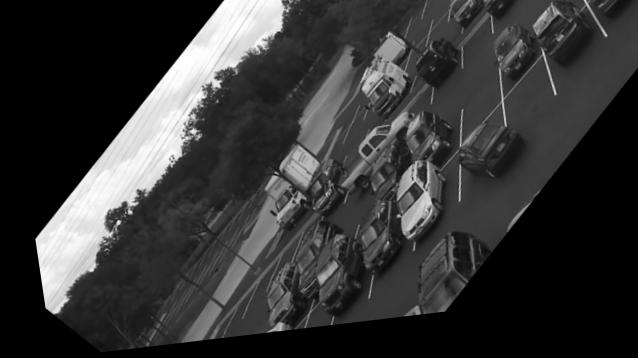empty: (499, 70, 544, 147), (455, 76, 492, 139), (339, 157, 369, 206), (215, 289, 248, 333), (368, 122, 399, 167), (461, 30, 487, 76), (240, 269, 267, 310), (396, 98, 423, 135), (265, 240, 291, 278), (339, 107, 363, 147), (533, 0, 567, 28), (334, 207, 358, 242), (424, 23, 446, 56), (402, 45, 423, 78), (290, 310, 316, 335), (427, 7, 447, 35), (407, 27, 426, 56), (403, 16, 420, 43), (433, 34, 455, 52), (422, 0, 435, 24), (450, 0, 460, 10)
occupied: (409, 242, 486, 323), (386, 169, 443, 252), (529, 12, 588, 87), (449, 122, 497, 211), (304, 240, 358, 318), (292, 165, 346, 226), (351, 209, 392, 288), (356, 65, 406, 129), (285, 227, 330, 292), (411, 47, 458, 103), (490, 37, 534, 96), (399, 120, 448, 171), (361, 154, 406, 209), (256, 268, 295, 330), (581, 0, 635, 35), (446, 0, 481, 39), (479, 0, 515, 33)
